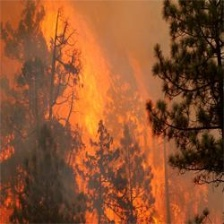fire: (42, 7, 167, 224)
